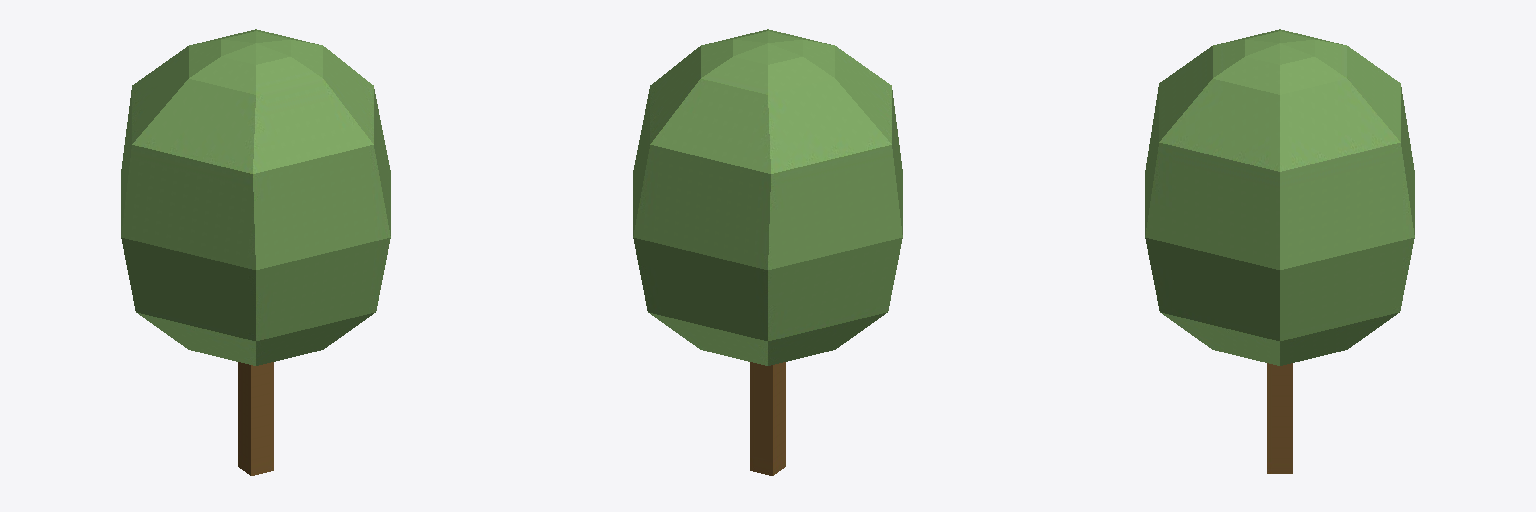
The picture shows the model from 3 angles: view 1: azimuth 30°, elevation 25°; view 2: azimuth 150°, elevation 25°; view 3: azimuth 270°, elevation 25°; orthographic projection.
Visible parts, largest first — view 1: Tree_E_メッシュ.004; view 2: Tree_E_メッシュ.004; view 3: Tree_E_メッシュ.004.
Boxes of the visible parts, x1,y1,x2,y2 form: Tree_E_メッシュ.004: [121, 29, 390, 475]; Tree_E_メッシュ.004: [633, 29, 902, 475]; Tree_E_メッシュ.004: [1145, 29, 1414, 473].
Size of the model in its own units: 4.69 by 7.08 by 4.07.
1 materials, 1 textured.